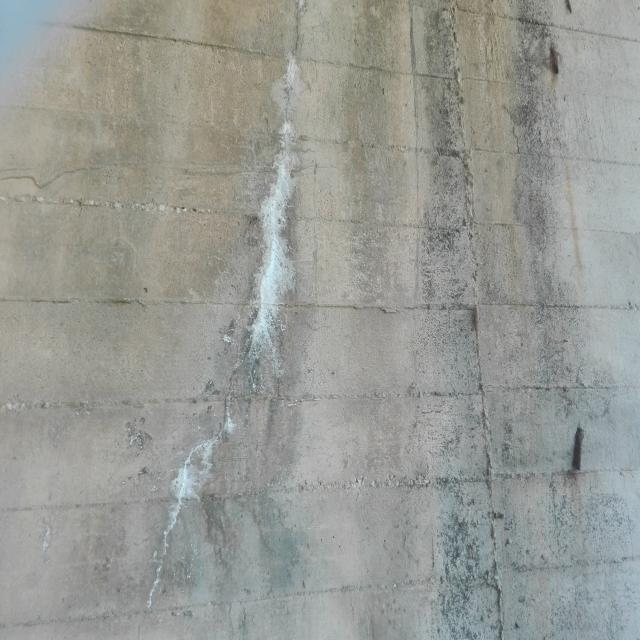corrosion: (562, 416, 588, 486), (542, 38, 568, 82), (562, 0, 573, 16)
